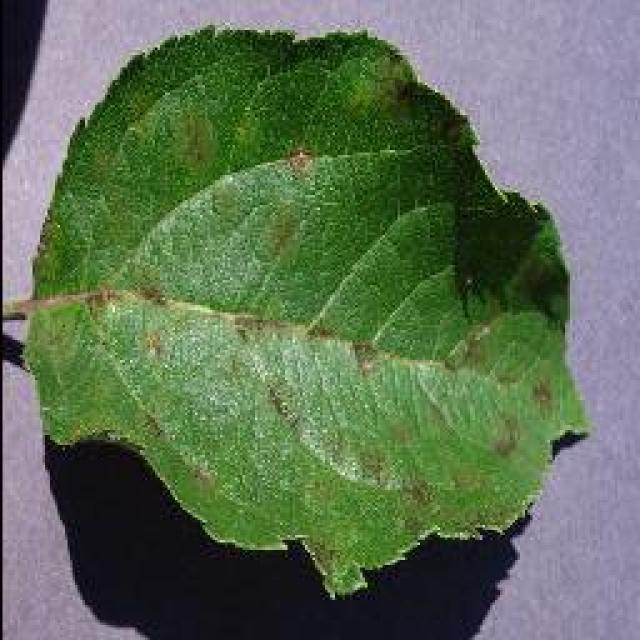apple scab disease: (2, 20, 592, 600)
